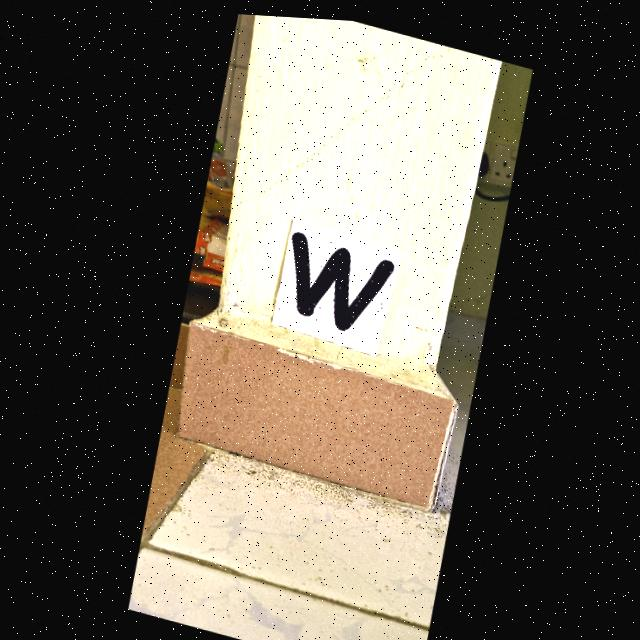W: (289, 228, 392, 326)
